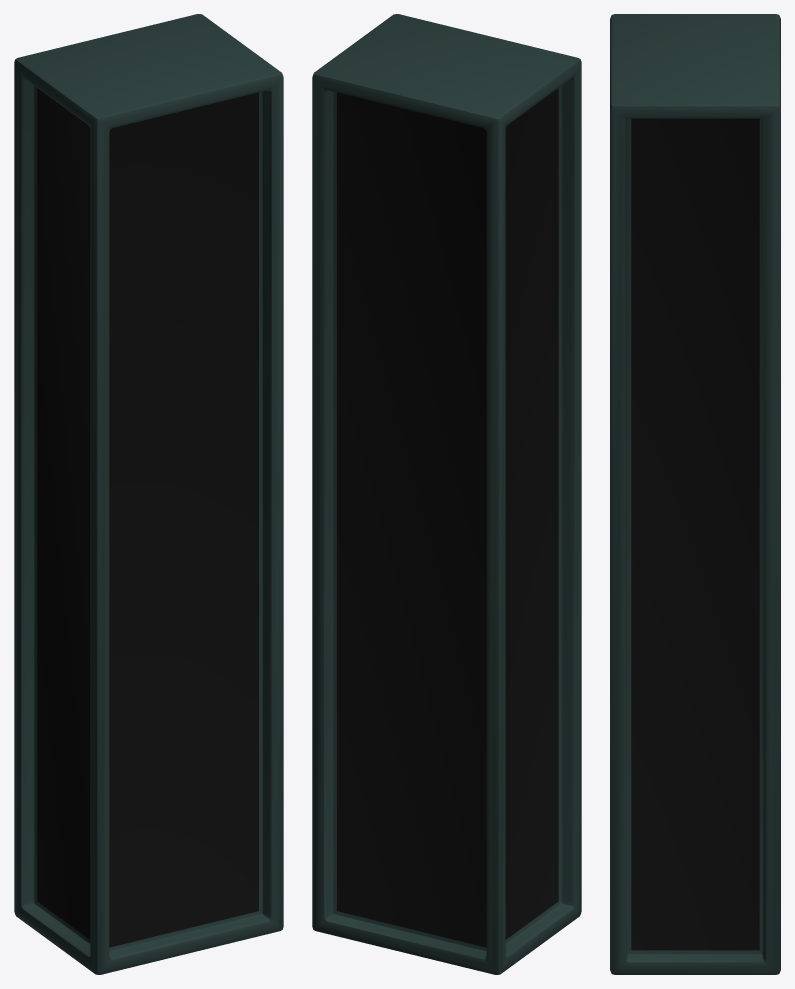
Rendered from petite boite au mur.fbx.
3 views of the same model, side by side, from view 1: azimuth 30°, elevation 25°; view 2: azimuth 150°, elevation 25°; view 3: azimuth 270°, elevation 25° (orthographic).
Visible parts, largest first — view 1: Box006; view 2: Box006; view 3: Box006.
Boxes of the visible parts, left/top/right/bottom form: Box006: left=14, top=14, right=283, bottom=974; Box006: left=312, top=14, right=581, bottom=974; Box006: left=610, top=14, right=780, bottom=974.
Bounding box in the file's own units: 13.47 × 58.67 × 10.42.
